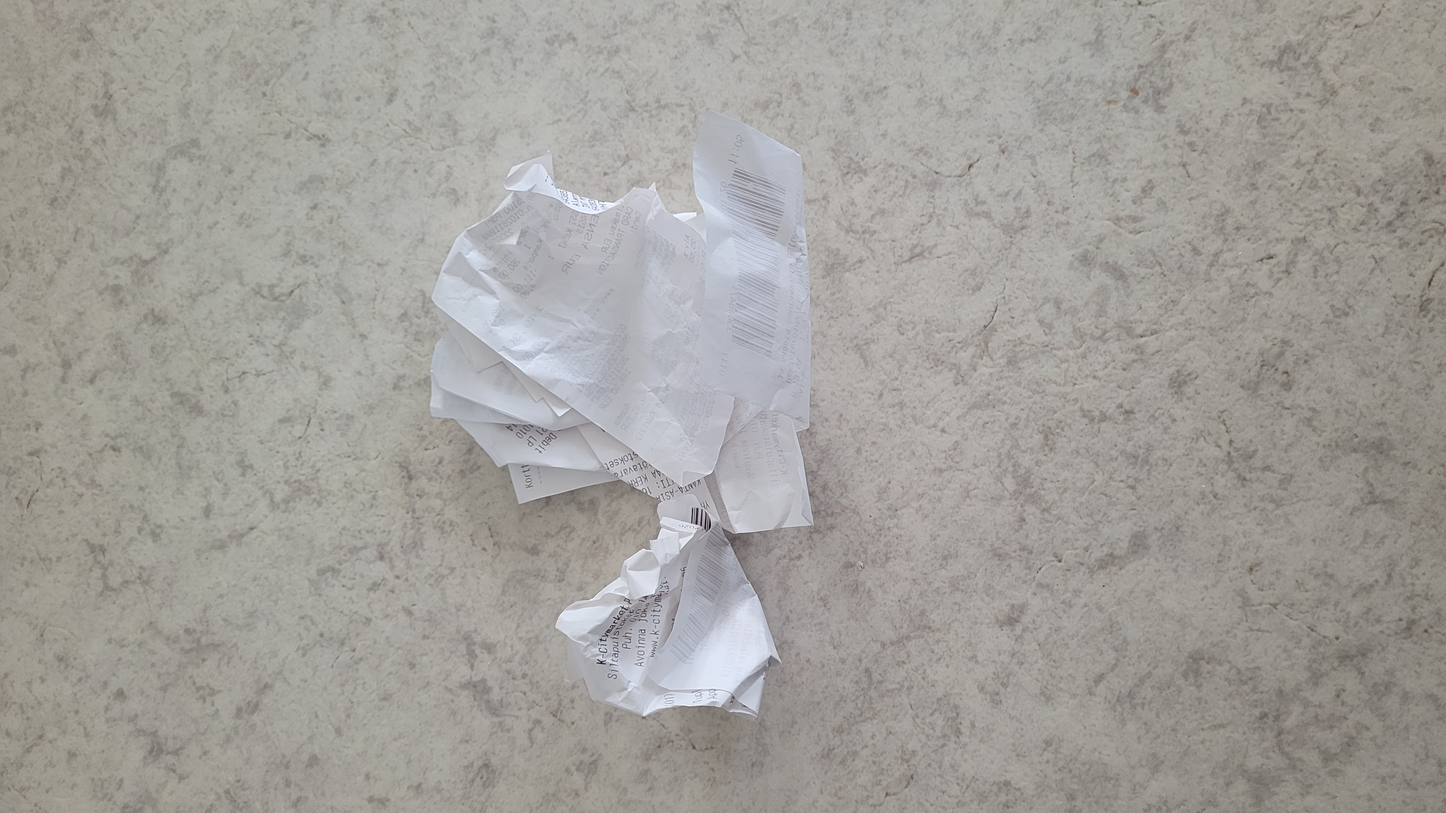paper: (419, 111, 820, 726)
